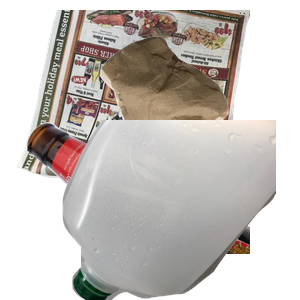glass: (25, 120, 265, 300)
paper: (14, 10, 254, 190)
plastic: (60, 120, 300, 300)
trash: (98, 34, 300, 211)
